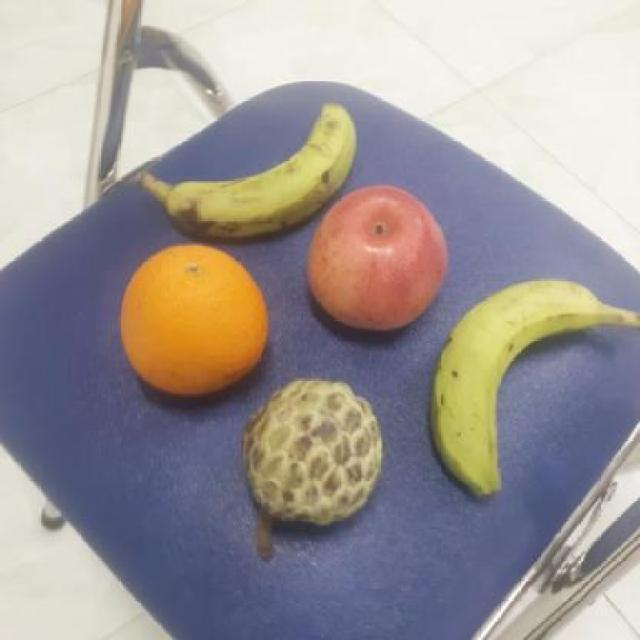apple: (303, 182, 451, 330)
banana: (427, 271, 604, 498), (164, 93, 361, 239)
oren: (114, 238, 271, 398)
sugar apple: (236, 375, 387, 527)
